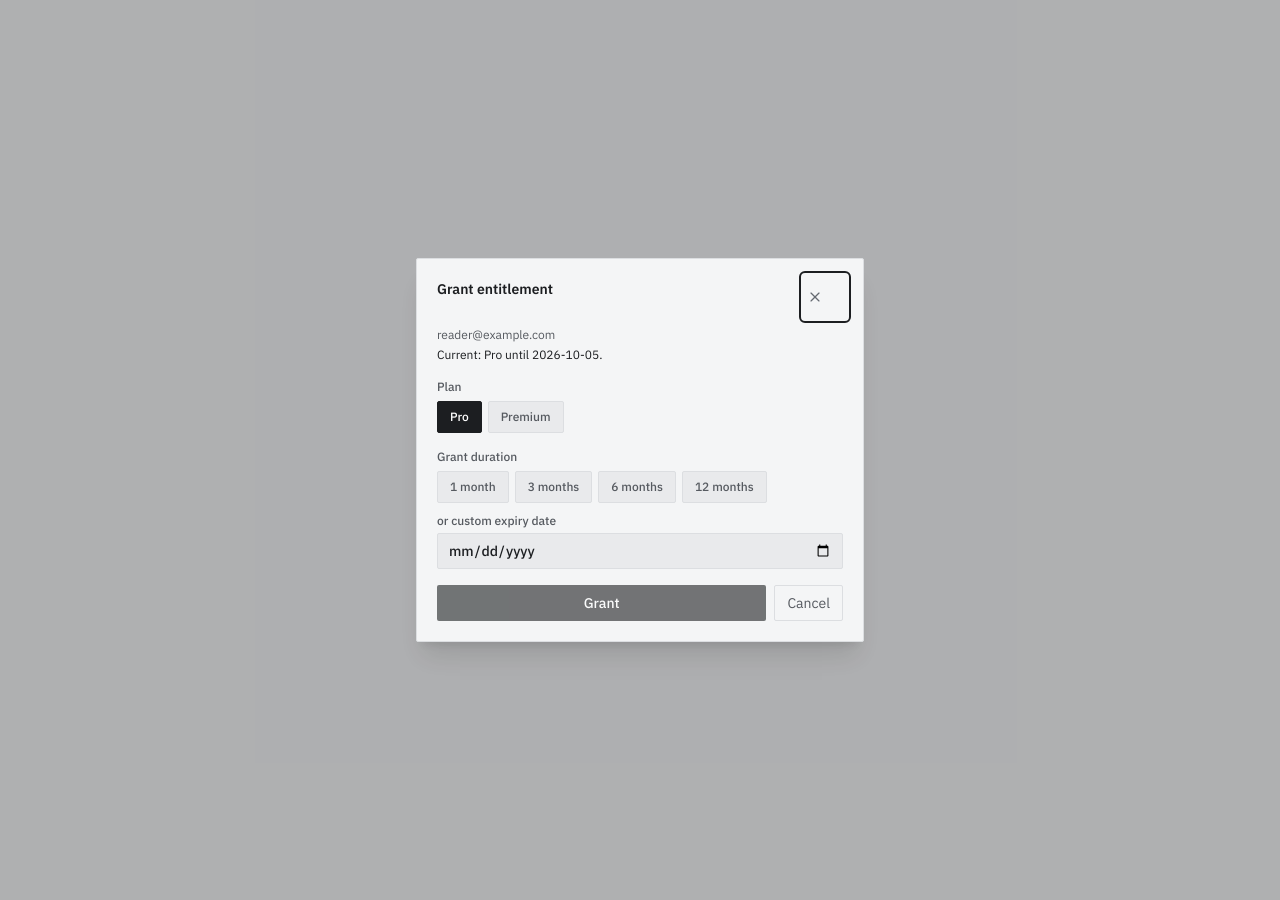
Test case: previews a duration stacking onto the current expiry
Click the button with test id "grant-duration-1" at (473, 487), box x1=437 y1=471 x2=509 y2=503
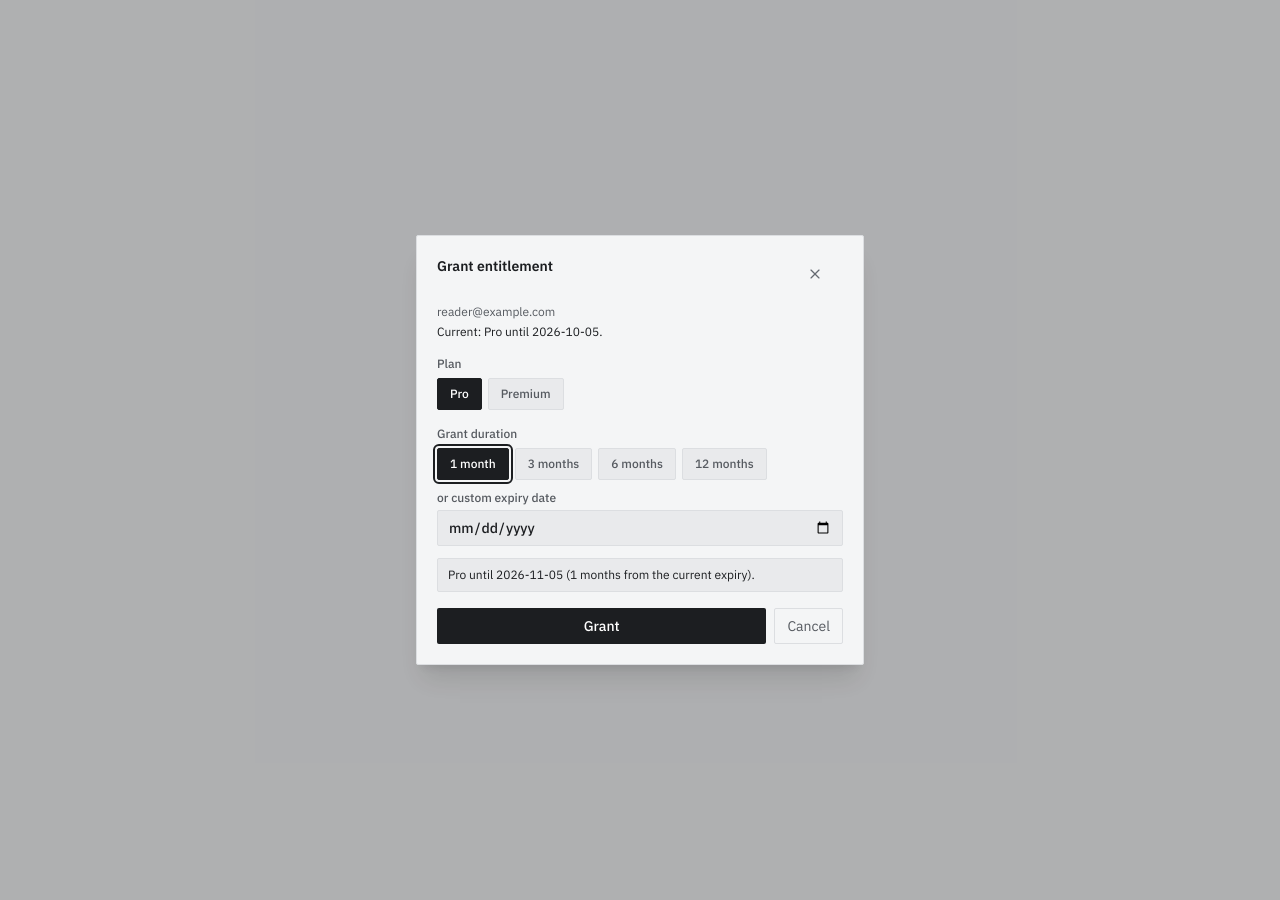
Now the text with test id "grant-preview" shows "Pro until 2026-11-05", box x1=437 y1=558 x2=843 y2=592
Now the text with test id "grant-preview" shows "from the current expiry", box x1=570 y1=567 x2=748 y2=582
